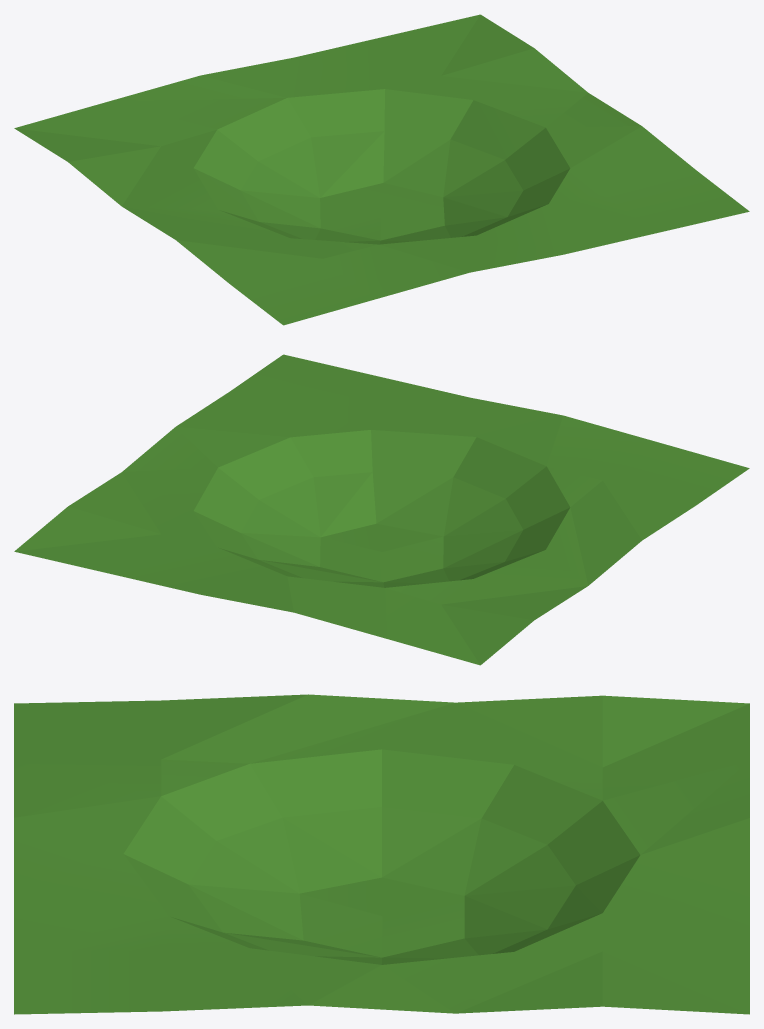
Rendered from terrains_terrain-plane-lake.fbx.
The picture shows the model from 3 angles, top to bottom: view 1: azimuth 30°, elevation 25°; view 2: azimuth 150°, elevation 25°; view 3: azimuth 270°, elevation 25°; orthographic projection. The views are drawn at different scales.
Parts seen in each view (by area): view 1: terrains_terrain_plane_lake; view 2: terrains_terrain_plane_lake; view 3: terrains_terrain_plane_lake.
Boxes of the visible parts, x1,y1,x2,y2 form: terrains_terrain_plane_lake: (14,14,749,325); terrains_terrain_plane_lake: (14,354,749,665); terrains_terrain_plane_lake: (14,694,749,1014).
Bounding box in the file's own units: 200 × 20.81 × 200.
